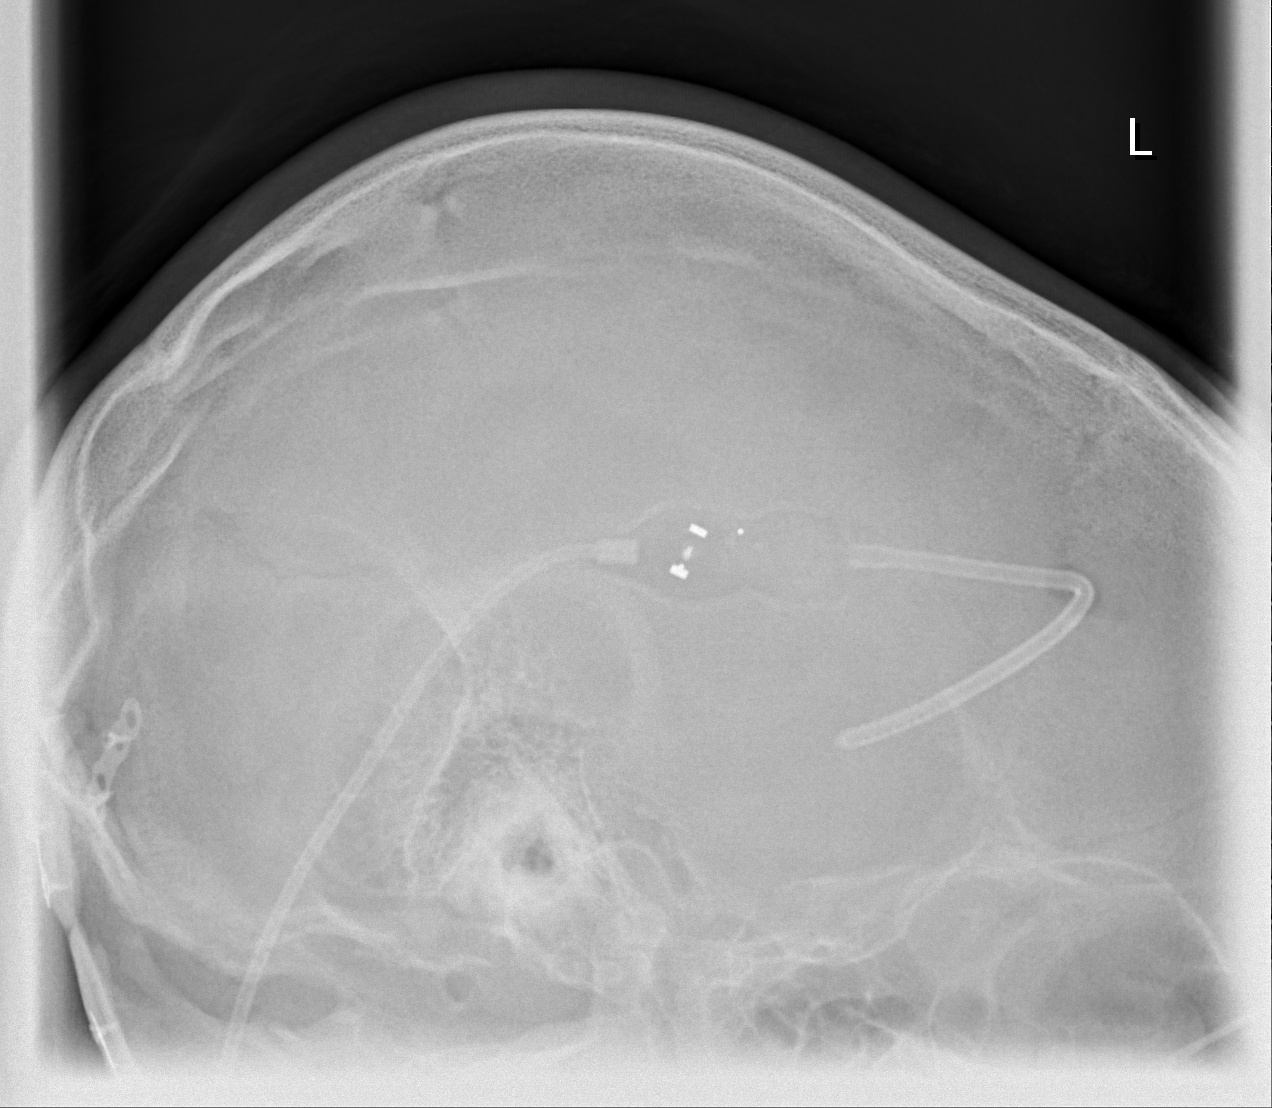Codman Certas: (638, 498, 748, 603)
